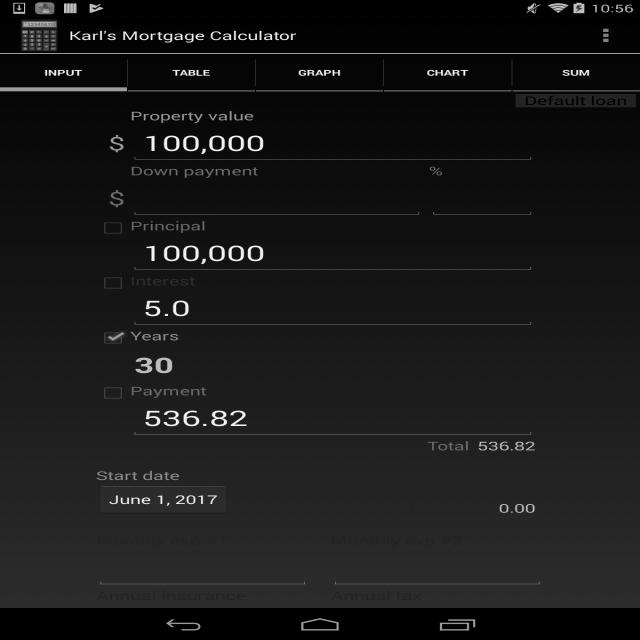Button: (96, 484, 230, 516), (511, 85, 640, 116)
CheckBox: (96, 217, 130, 239), (96, 272, 130, 294), (96, 327, 130, 349), (96, 382, 130, 404)
EditText: (130, 124, 536, 162), (130, 234, 536, 272), (130, 289, 536, 327), (130, 399, 536, 437), (130, 179, 424, 217), (96, 548, 309, 587), (331, 548, 544, 587), (96, 603, 309, 640), (331, 603, 544, 640), (429, 179, 535, 217)
ImageButton: (571, 16, 640, 54)
ImageView: (14, 19, 64, 52)
TextView: (134, 350, 540, 379), (69, 27, 297, 43), (96, 587, 246, 603), (130, 162, 258, 179), (96, 532, 228, 548), (130, 107, 254, 124), (331, 532, 462, 548), (331, 587, 422, 603), (96, 467, 180, 483), (409, 500, 491, 516), (130, 382, 207, 399), (130, 217, 206, 234), (130, 272, 195, 289), (478, 437, 536, 454), (130, 327, 179, 344), (427, 437, 470, 454), (498, 500, 536, 516), (298, 67, 341, 78), (427, 67, 468, 78), (108, 130, 125, 156), (108, 185, 125, 211), (44, 67, 82, 78), (172, 67, 210, 78), (562, 67, 590, 78), (428, 162, 442, 179)
